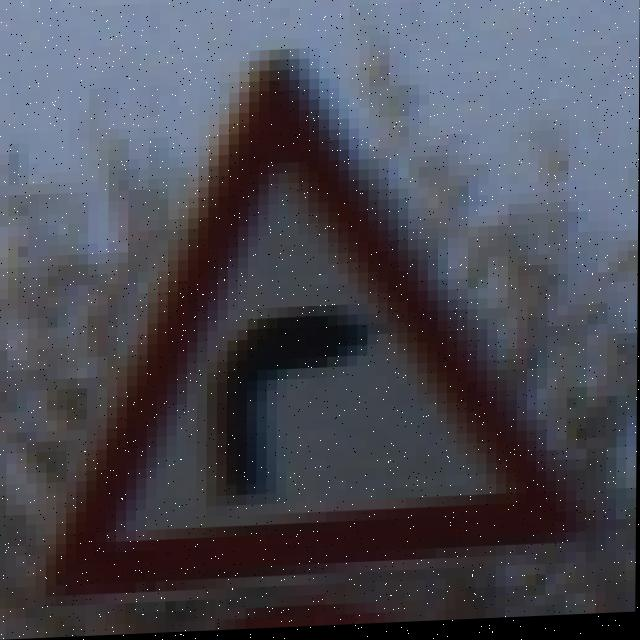right_turn: (134, 68, 558, 562)
